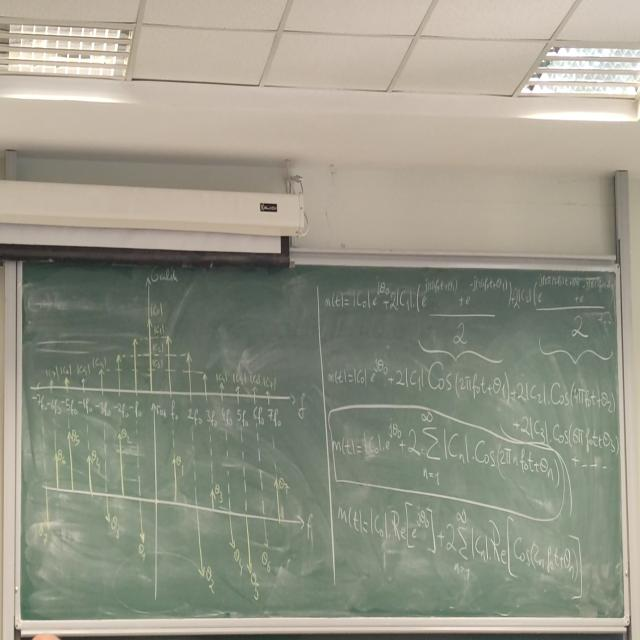image: (21, 268, 319, 602)
math: (333, 493, 585, 603), (330, 417, 620, 498), (324, 347, 617, 427), (323, 270, 614, 345)
